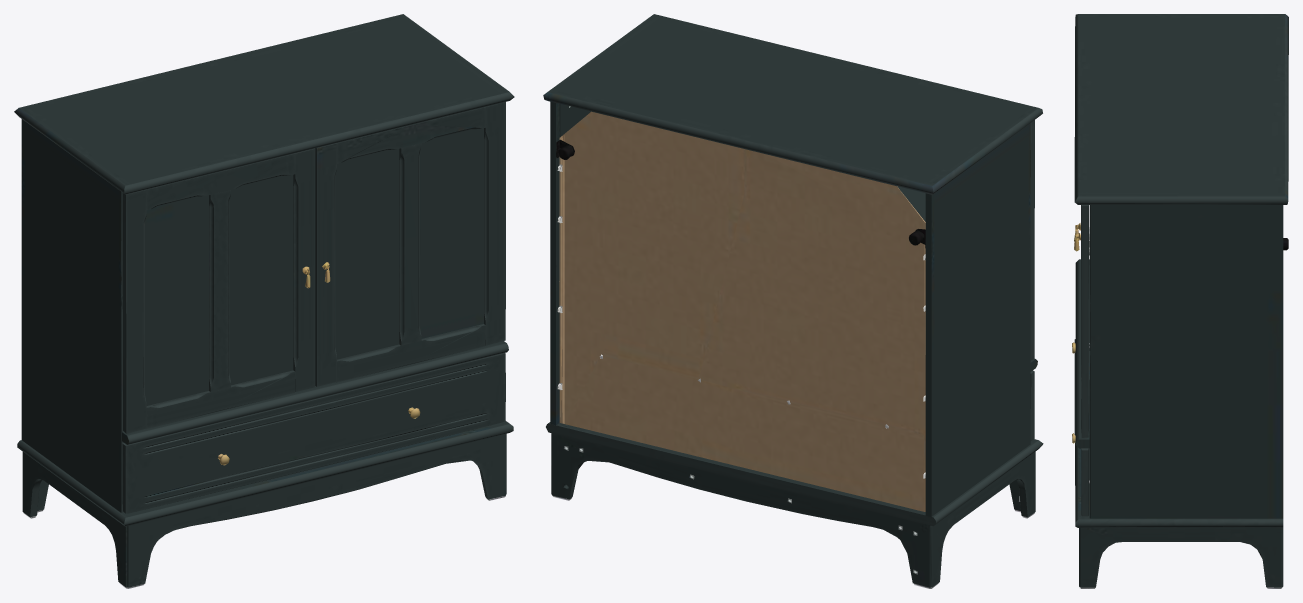
Rendered from 21 - LOMMARP Cabinet - dark blue-green 102x101 cm.glb.
3 renders of one model, left to right at view 1: azimuth 30°, elevation 25°; view 2: azimuth 150°, elevation 25°; view 3: azimuth 270°, elevation 25°, orthographic. The views are drawn at different scales.
Parts seen in each view (by area): view 1: 80415468-LOMMARP001; view 2: 80415468-LOMMARP001; view 3: 80415468-LOMMARP001.
Boxes of the visible parts, x1,y1,x2,y2 form: 80415468-LOMMARP001: (14,14,514,588); 80415468-LOMMARP001: (543,14,1043,588); 80415468-LOMMARP001: (1072,14,1288,588).
Size of the model in its own units: 1.02 by 1.01 by 0.504.
1 material, 1 textured.
